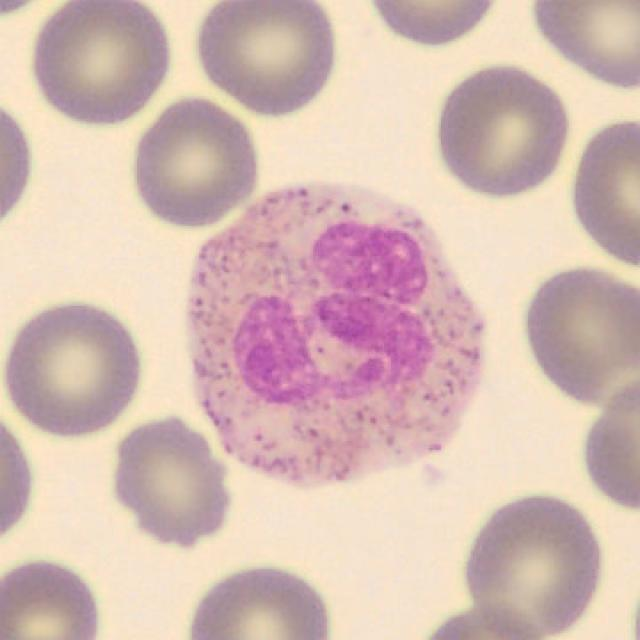Neutrofilo segmentado: (182, 180, 487, 487)
